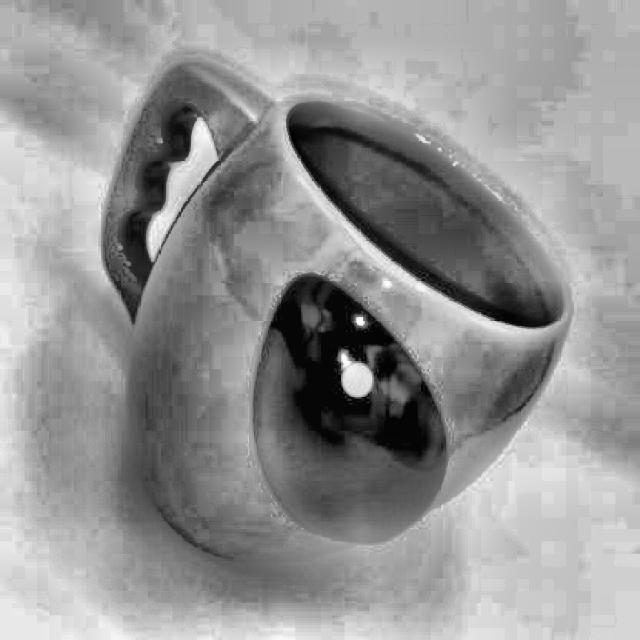Mug: (100, 58, 574, 567)
